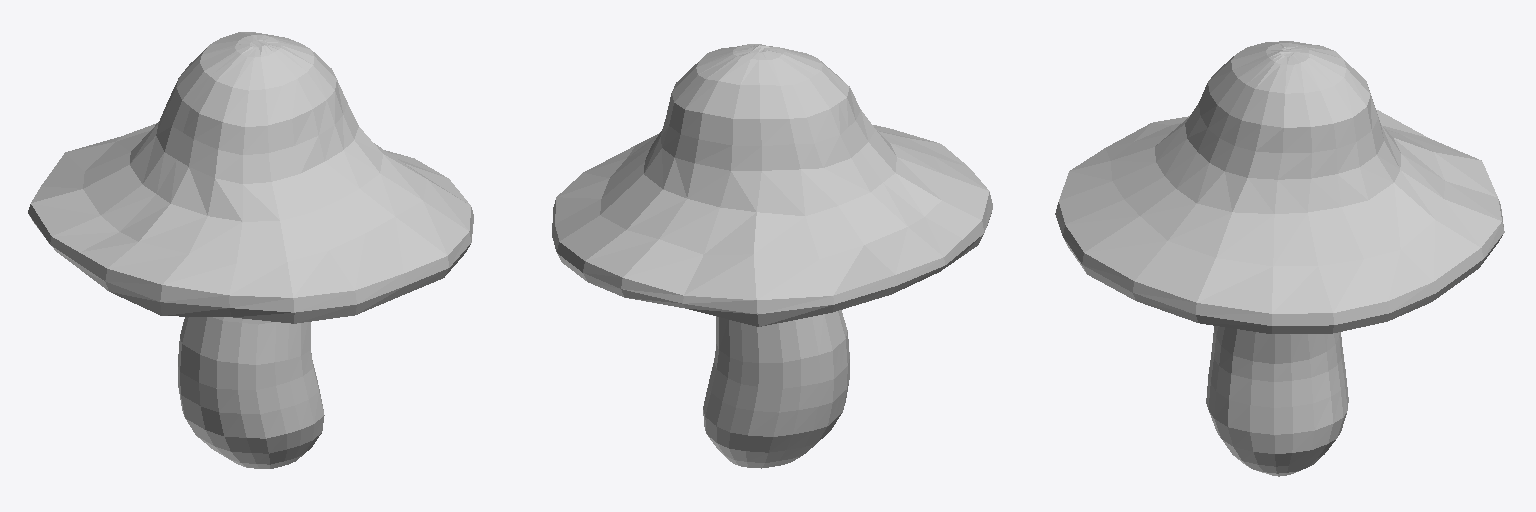
File: svamp low.obj
3 views of the same model, side by side, from view 1: azimuth 30°, elevation 25°; view 2: azimuth 150°, elevation 25°; view 3: azimuth 270°, elevation 25° (orthographic).
Visible parts, largest first — view 1: svamp_UV_lowpoly_svamp_UV; view 2: svamp_UV_lowpoly_svamp_UV; view 3: svamp_UV_lowpoly_svamp_UV.
Boxes of the visible parts, box(x1,y1,x2,y2) form: svamp_UV_lowpoly_svamp_UV: box(28, 32, 473, 468); svamp_UV_lowpoly_svamp_UV: box(552, 44, 992, 468); svamp_UV_lowpoly_svamp_UV: box(1055, 41, 1504, 476).
Bounding box in the file's own units: 6.59 × 6.86 × 6.69.